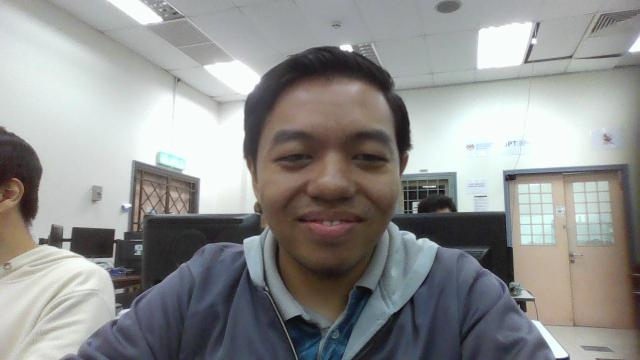senang: (248, 85, 403, 260)
